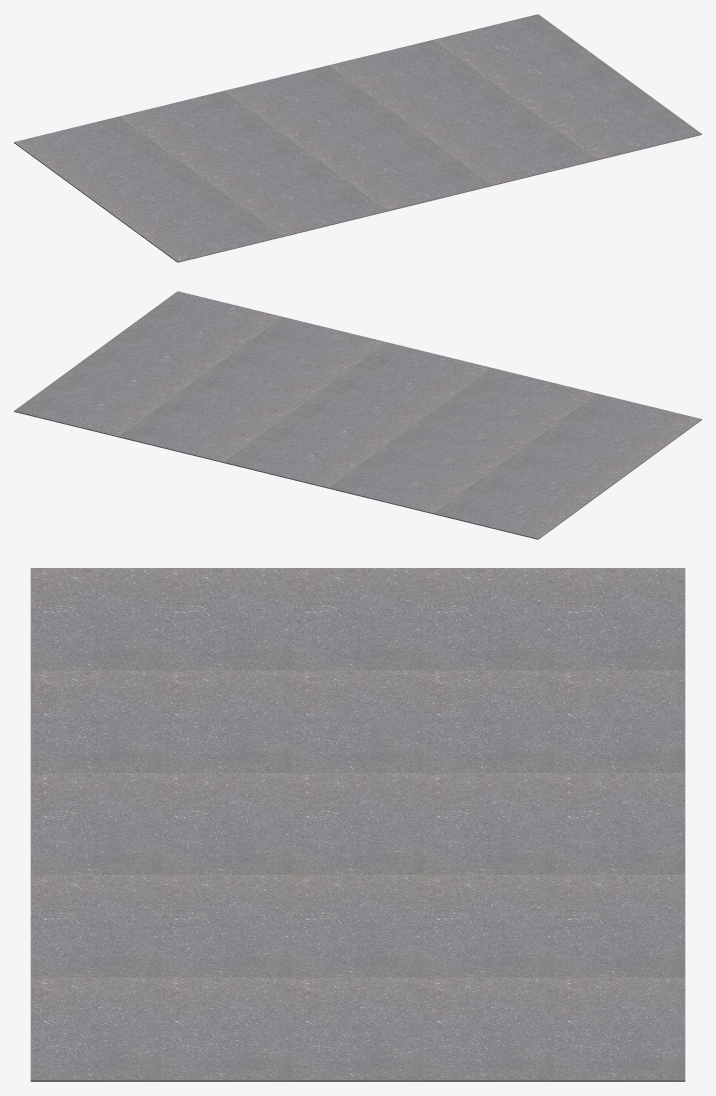
The model's file is stage_base01_short.FBX.
The picture shows the model from 3 angles, top to bottom: view 1: azimuth 30°, elevation 25°; view 2: azimuth 150°, elevation 25°; view 3: azimuth 270°, elevation 25°; orthographic projection. The views are drawn at different scales.
Visible parts, largest first — view 1: stage_base01_short; view 2: stage_base01_short; view 3: stage_base01_short.
Part boxes in pixels (bbox=[...]): stage_base01_short: bbox=[14, 14, 701, 262]; stage_base01_short: bbox=[14, 291, 701, 539]; stage_base01_short: bbox=[30, 568, 685, 1081].
Size of the model in its own units: 5567 by 3010 by 11.
1 material, 1 textured.
